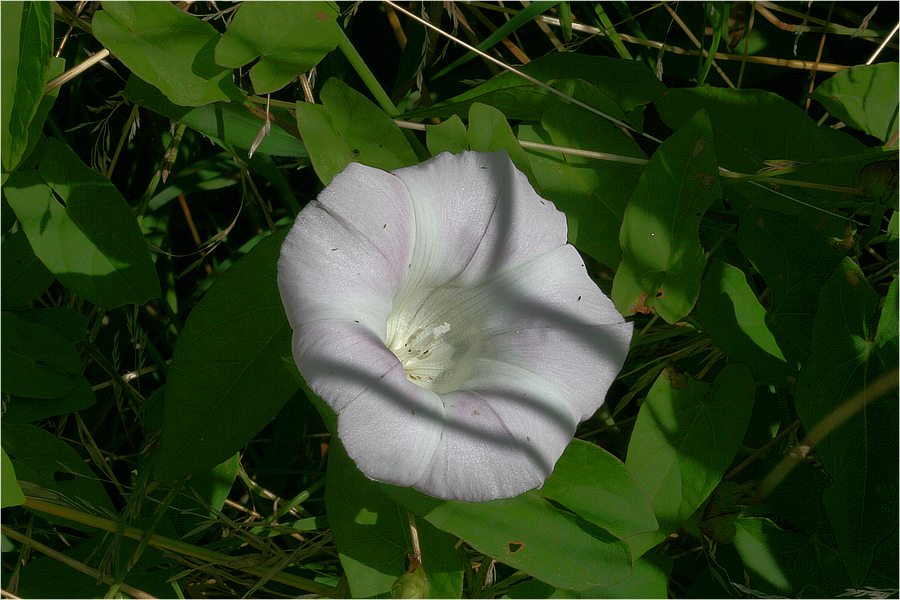haagwinde: (266, 121, 652, 522), (2, 138, 175, 349), (84, 3, 350, 96)
